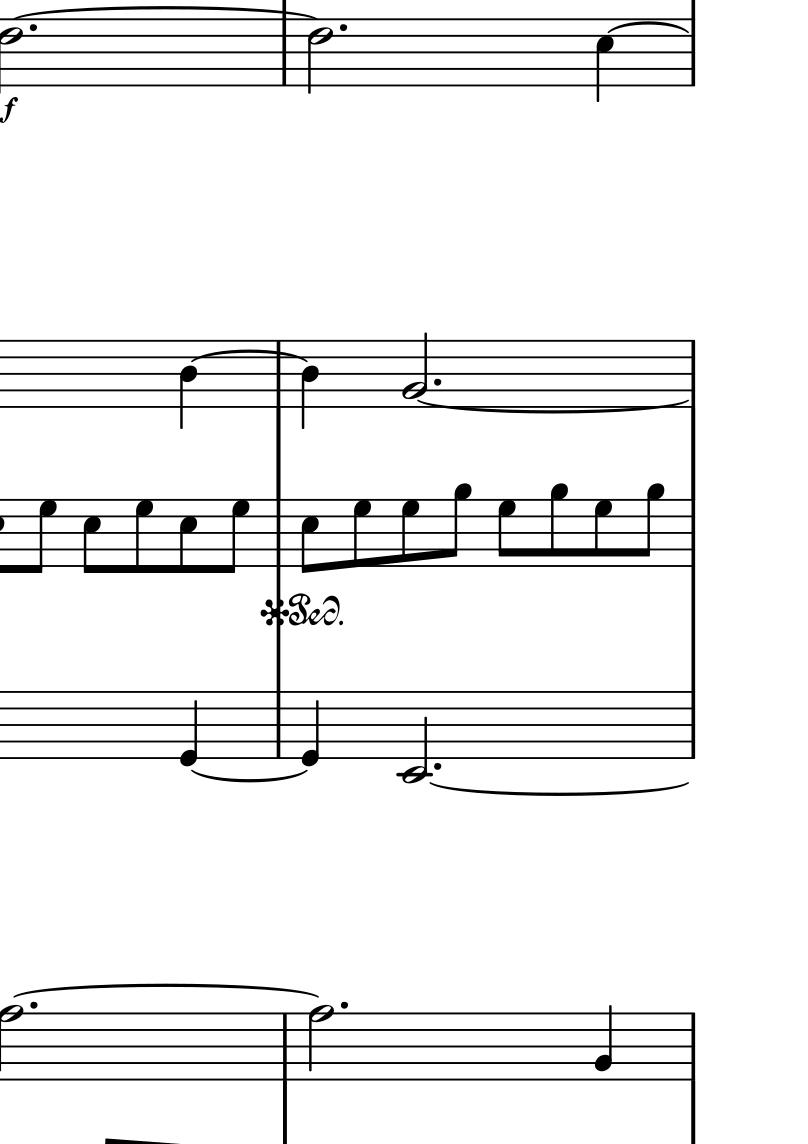2_-2: (401, 690, 429, 784)
2_2: (400, 331, 430, 412)
2_6: (307, 18, 334, 93)
2_8: (306, 1003, 335, 1083)
4_0: (299, 687, 322, 771), (178, 689, 200, 768)
4_2: (593, 1003, 616, 1083)
4_4: (300, 338, 322, 432), (178, 340, 199, 431)
4_5: (595, 18, 616, 104)
8_5: (81, 498, 103, 577), (177, 497, 199, 576), (299, 498, 321, 576)
8_7: (28, 497, 59, 575), (221, 497, 252, 575), (592, 498, 616, 568), (134, 498, 156, 574), (496, 498, 519, 568), (352, 498, 374, 568), (400, 499, 422, 568)
8_9: (635, 483, 666, 569), (445, 483, 475, 569), (548, 482, 572, 569)
Single_barline: (682, 18, 702, 88), (682, 498, 702, 567), (270, 341, 290, 409), (682, 691, 702, 758), (270, 498, 288, 567), (270, 692, 288, 759), (277, 1013, 295, 1079), (684, 1013, 701, 1079), (684, 341, 701, 406), (277, 26, 293, 86)
Slur: (431, 783, 689, 798)
dot: (430, 375, 444, 389), (431, 759, 444, 774), (336, 20, 349, 34), (338, 999, 350, 1012), (28, 999, 39, 1012), (28, 22, 38, 34)
